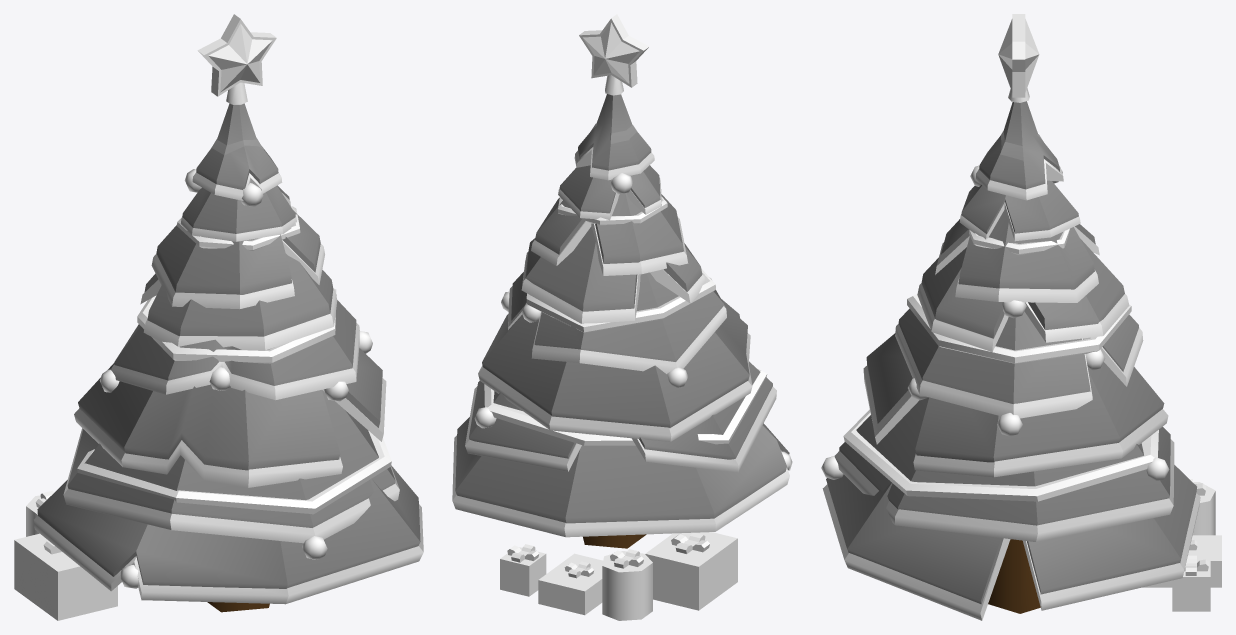
Rendered from tree.fbx.
3 views of the same model, side by side, from view 1: azimuth 30°, elevation 25°; view 2: azimuth 150°, elevation 25°; view 3: azimuth 270°, elevation 25° (orthographic). The views are drawn at different scales.
Visible parts, largest first — view 1: Cylinder003, Shape010, Object078, Cylinder004, Sphere001; view 2: Cylinder003, Object078, Shape010, Object079, Object077, Cylinder004, Object076, Sphere001; view 3: Cylinder003, Shape010, Cylinder004, Sphere001, Object076, Object077, Object079.
Part boxes in pixels (x1,y1,x2,y2): Cylinder003: [34, 103, 423, 612]; Shape010: [77, 206, 391, 514]; Object078: [14, 533, 117, 620]; Cylinder004: [197, 14, 276, 104]; Sphere001: [99, 169, 372, 588]; Cylinder003: [452, 94, 792, 548]; Object078: [645, 532, 737, 610]; Shape010: [484, 196, 767, 445]; Object079: [602, 549, 652, 620]; Object077: [538, 553, 602, 615]; Cylinder004: [579, 14, 649, 95]; Object076: [500, 544, 546, 596]; Sphere001: [474, 173, 792, 470]; Cylinder003: [822, 101, 1200, 620]; Shape010: [843, 228, 1158, 501]; Cylinder004: [998, 14, 1039, 102]; Sphere001: [821, 165, 1169, 480]; Object076: [1172, 555, 1210, 611]; Object077: [1142, 535, 1221, 587]; Object079: [1189, 479, 1215, 535].
Size of the model in its own units: 70.13 by 118 by 73.72.
